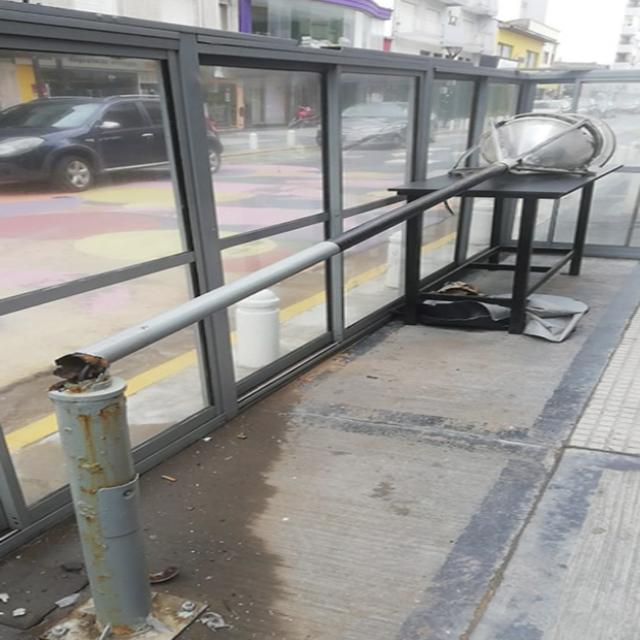Inclined Pole: (44, 106, 616, 640)
